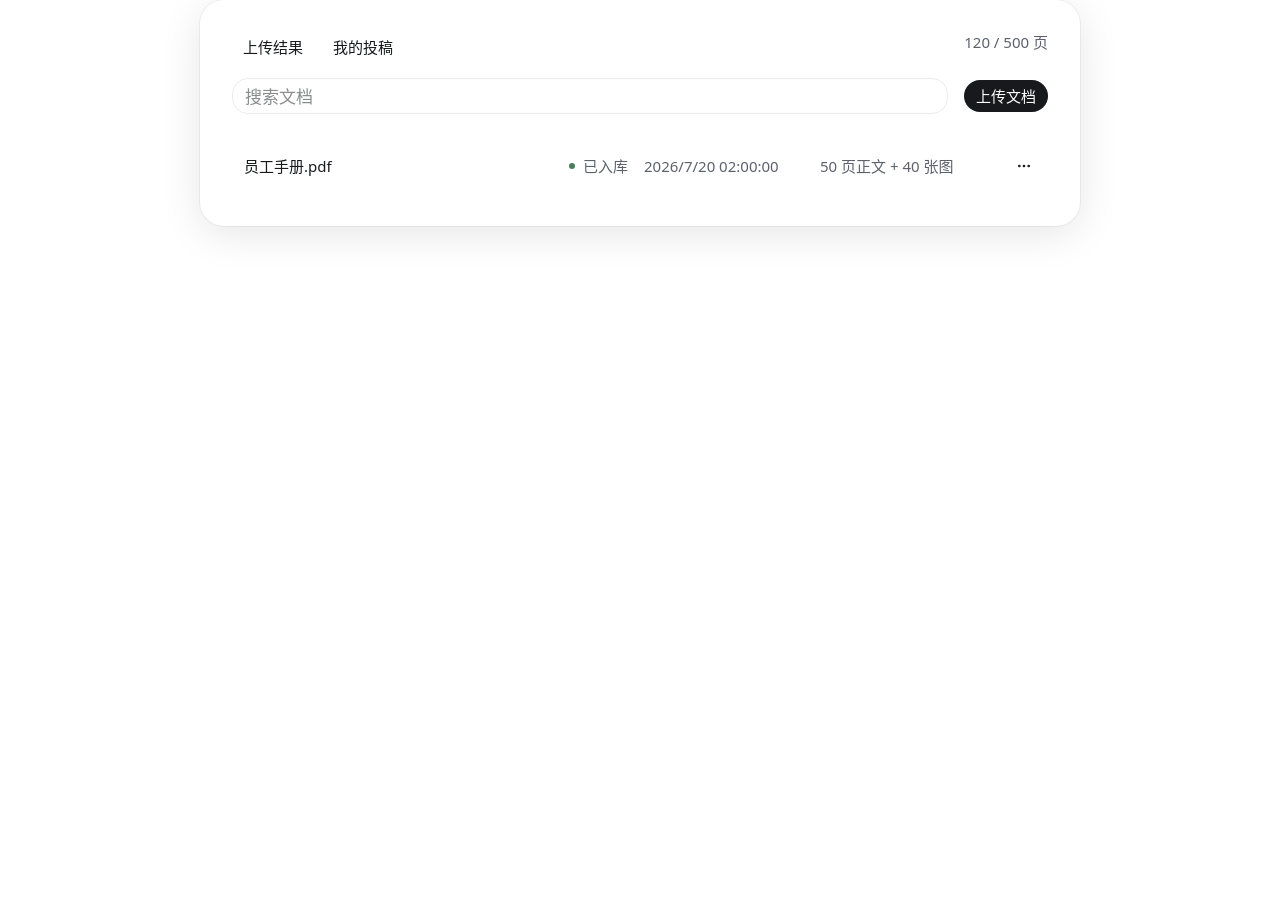
Scenario: KnowledgeModule mutation 代际与 single-flight（review A1/A5） › 删除进行中 Esc 取消：旧 mutation 失效，迟到成功不写入视图（列表/页码不变）
The width and height of the screenshot is (1280, 900).
Click the button named "文档 员工手册.pdf 操作".
click(1024, 166)  # box [1012, 154, 1036, 178]
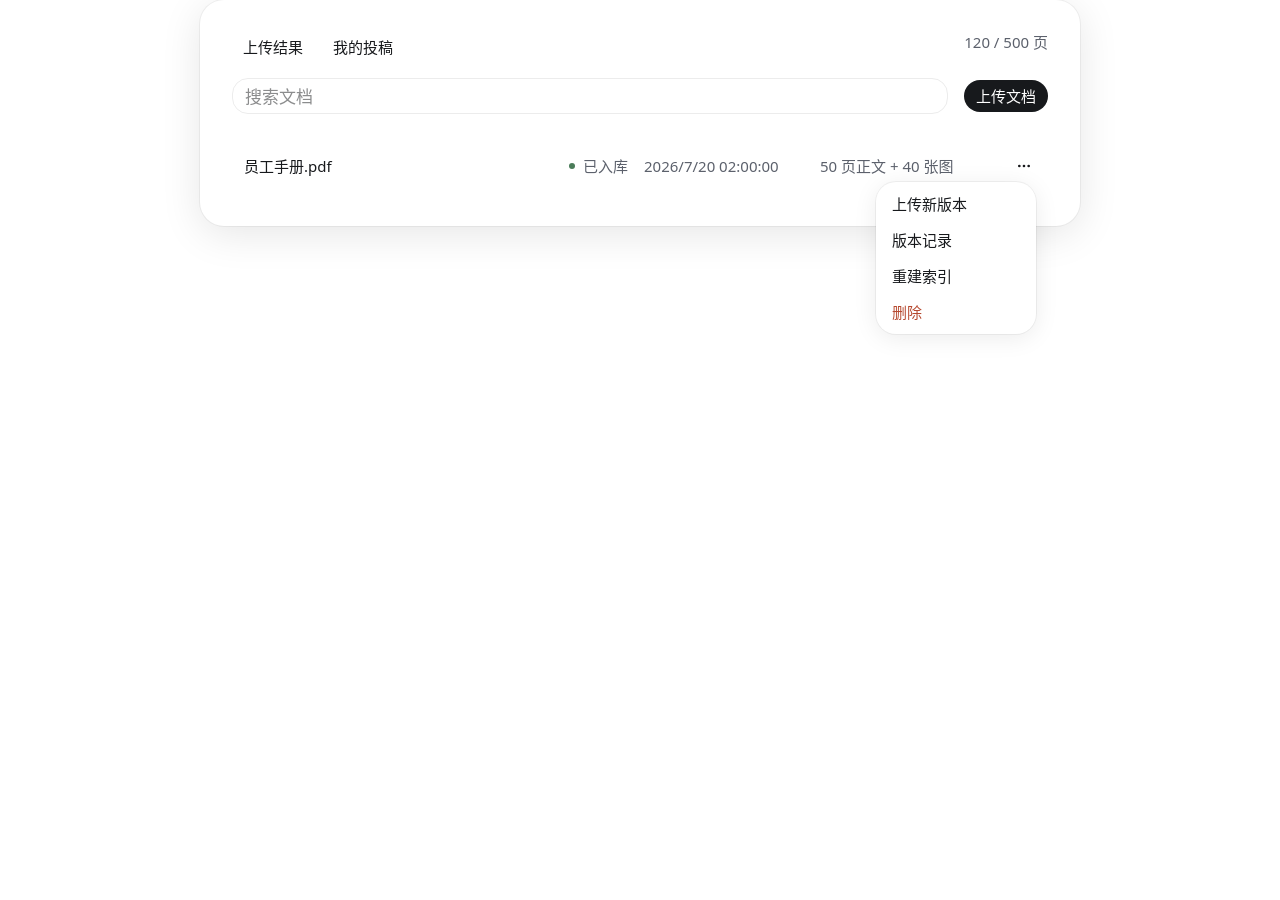
Click the menu item "删除".
click(907, 312)  # box [892, 302, 922, 322]
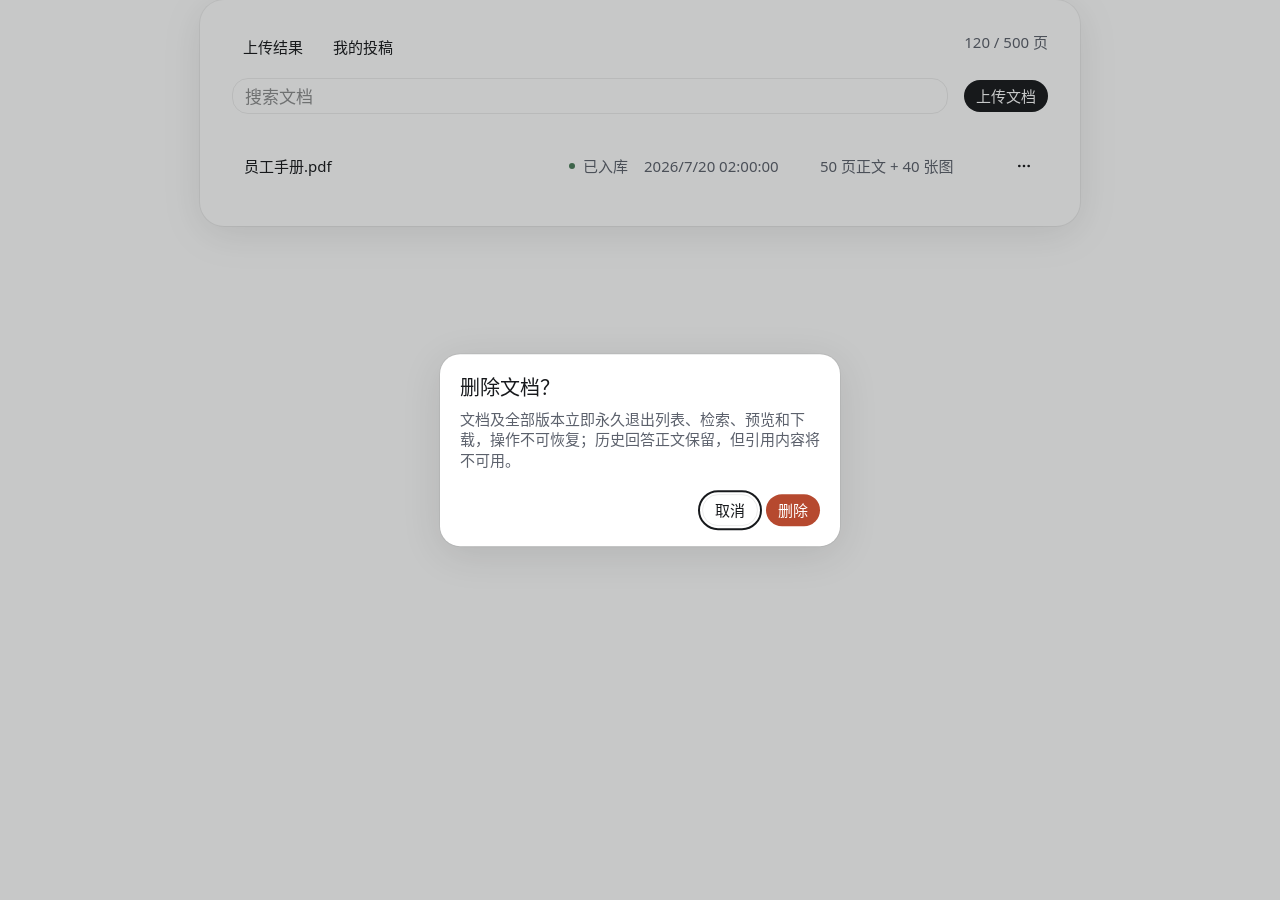
Click the button "删除".
click(793, 510)  # box [766, 494, 820, 526]
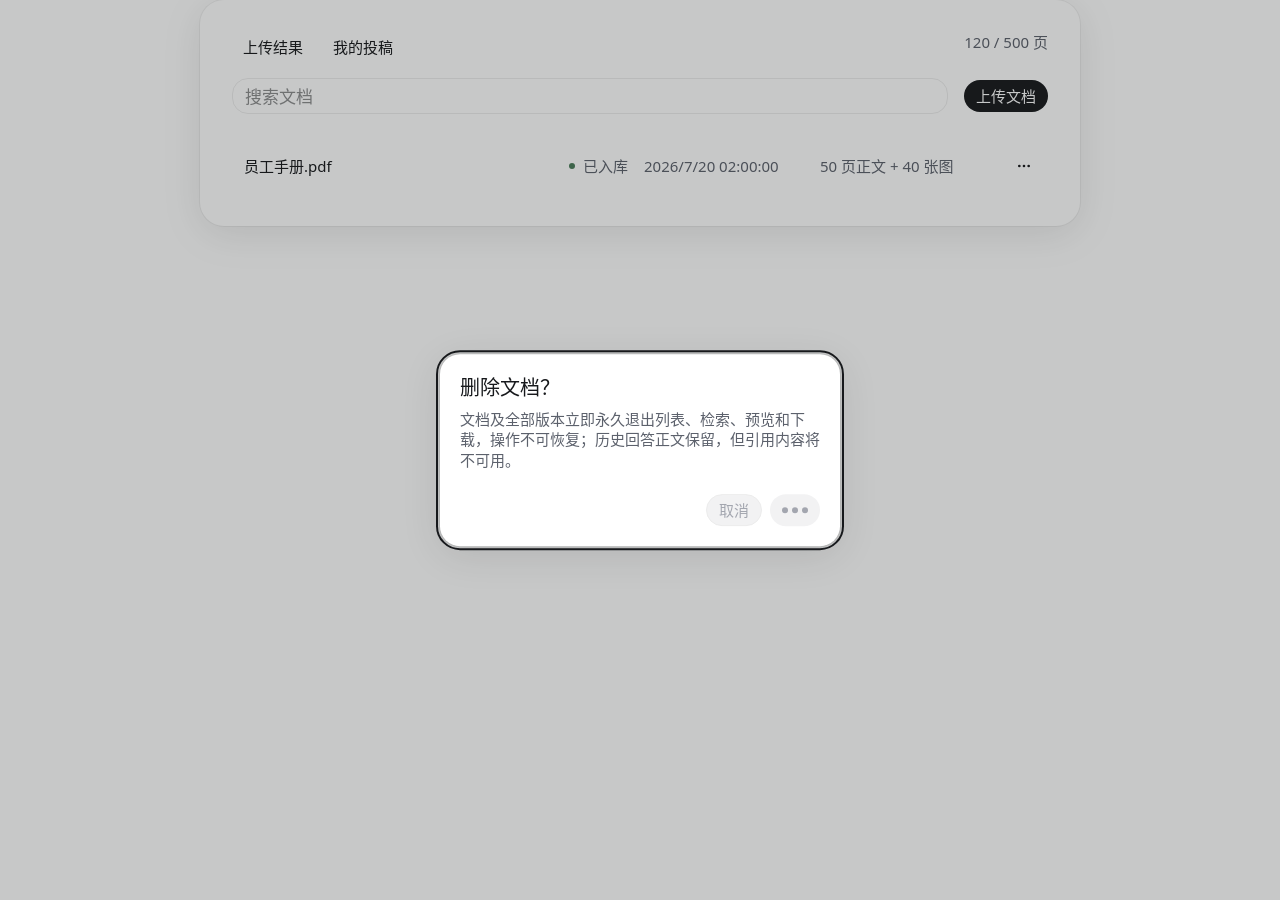
Expected: the button named "删除" is disabled, [770, 494, 820, 526]
// Esc 取消：关闭确认框、清 pending 意图、旧 mutation 失效
Press Escape
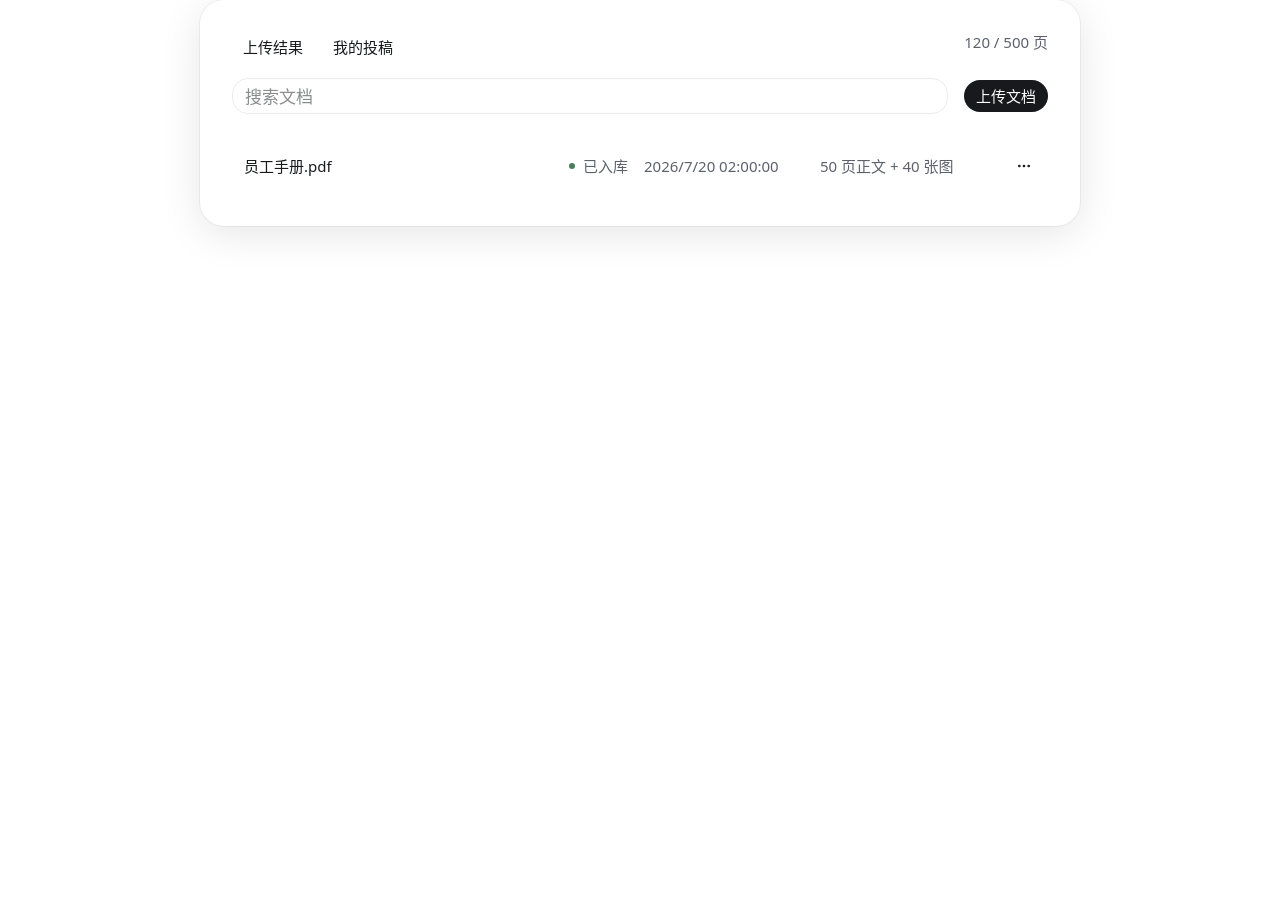
Expected: the text "员工手册.pdf" is shown, [244, 156, 332, 176]
Expected: the dialog is gone
